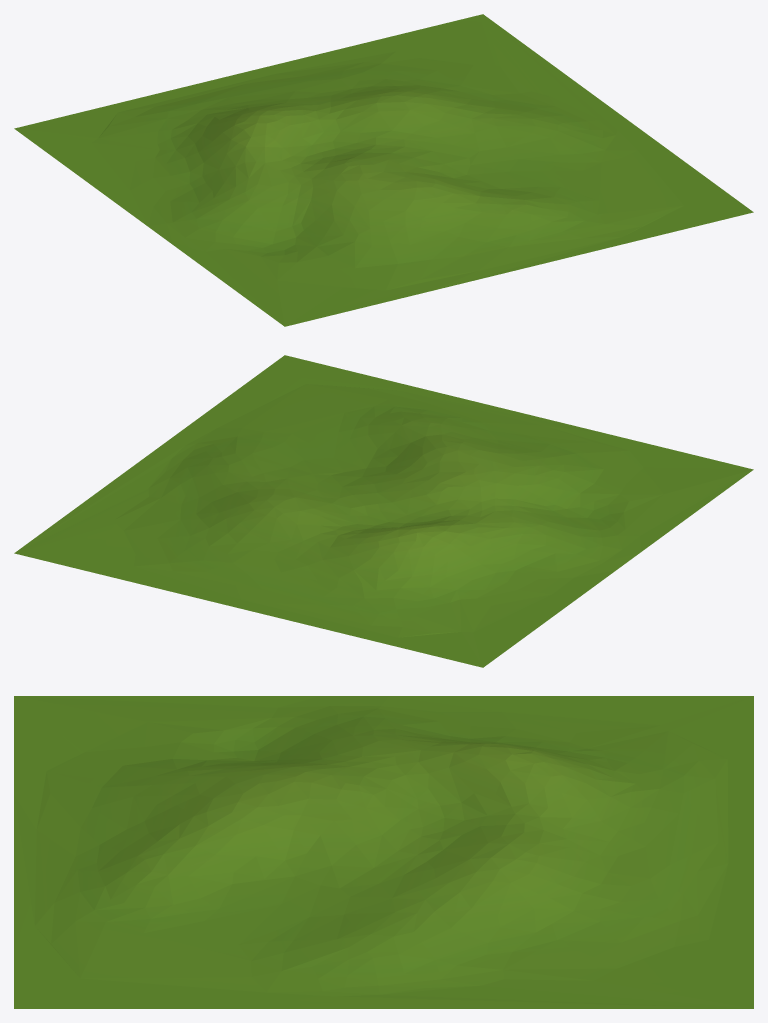
File: Terrain_09.fbx
3 views of the same model, one above another, from view 1: azimuth 30°, elevation 25°; view 2: azimuth 150°, elevation 25°; view 3: azimuth 270°, elevation 25° (orthographic). The views are drawn at different scales.
Parts seen in each view (by area): view 1: Terrain_09; view 2: Terrain_09; view 3: Terrain_09.
Part boxes in pixels (left/top/right/bottom): Terrain_09: left=14, top=14, right=753, bottom=326; Terrain_09: left=14, top=355, right=753, bottom=667; Terrain_09: left=14, top=696, right=753, bottom=1008.
Size of the model in its own units: 12800 by 897 by 12800.
